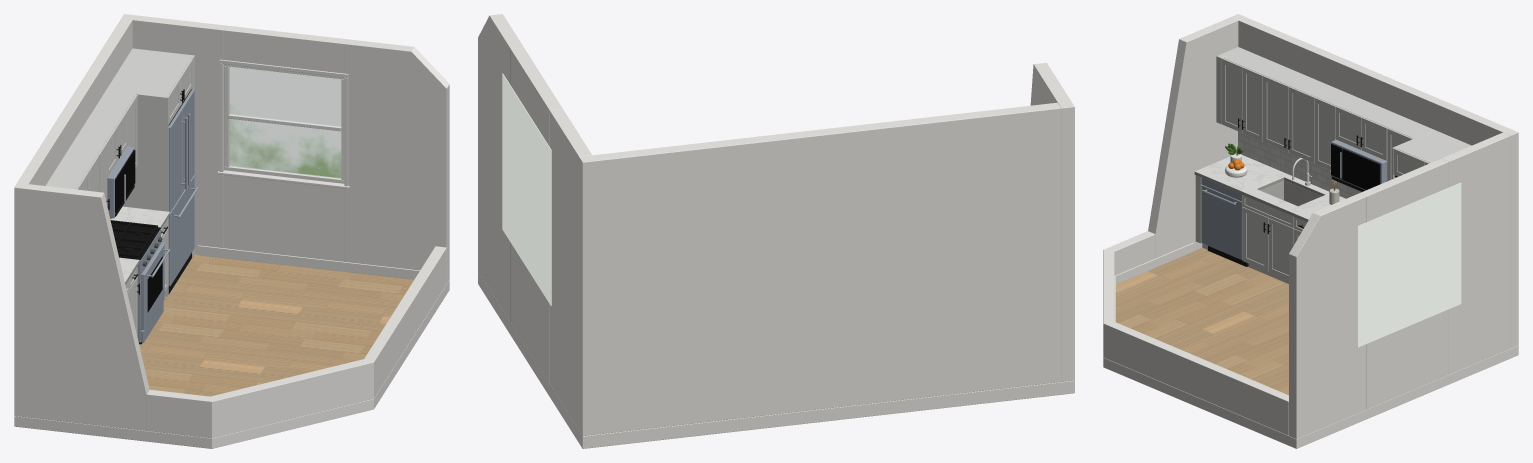
Rendered from kitchen.glb.
The picture shows the model from 3 angles, left to right: view 1: azimuth 30°, elevation 25°; view 2: azimuth 150°, elevation 25°; view 3: azimuth 270°, elevation 25°; orthographic projection. The views are drawn at different scales.
Parts seen in each view (by area): view 1: walls_floor_slab, floor_oak, windowb_exteriorbackdrop, windowb_glass, panel_cabinet_boxes, door_deco_A_REP84_R, fridge_leaves, windowb_frame, windowb_casing, baseboards, range_body, countertop_quartz (+8 smaller); view 2: walls_floor_slab, windowb_exteriorbackdrop; view 3: walls_floor_slab, floor_oak, windowb_exteriorbackdrop, panel_cabinet_boxes, countertop_quartz, dishwasher_face, backsplash_a, door_A08_W3030_L, door_A08_W3030_R, microwave_glass, door_A07_SB30_R, door_A09_W2430_R (+11 smaller).
Part boxes in pixels (x1=…): walls_floor_slab: x1=14, y1=14, x2=449, y2=448; floor_oak: x1=139, y1=254, x2=413, y2=396; windowb_exteriorbackdrop: x1=229, y1=66, x2=341, y2=177; windowb_glass: x1=229, y1=67, x2=340, y2=178; panel_cabinet_boxes: x1=45, y1=48, x2=194, y2=257; door_deco_A_REP84_R: x1=106, y1=90, x2=168, y2=296; fridge_leaves: x1=168, y1=89, x2=194, y2=286; windowb_frame: x1=224, y1=64, x2=344, y2=183; windowb_casing: x1=217, y1=59, x2=349, y2=189; baseboards: x1=198, y1=245, x2=419, y2=279; range_body: x1=121, y1=229, x2=164, y2=342; countertop_quartz: x1=110, y1=206, x2=169, y2=284; walls_floor_slab: x1=478, y1=14, x2=1074, y2=448; windowb_exteriorbackdrop: x1=502, y1=73, x2=551, y2=305; walls_floor_slab: x1=1103, y1=14, x2=1518, y2=448; floor_oak: x1=1115, y1=247, x2=1288, y2=395; windowb_exteriorbackdrop: x1=1357, y1=182, x2=1461, y2=347; panel_cabinet_boxes: x1=1195, y1=47, x2=1471, y2=283; countertop_quartz: x1=1194, y1=155, x2=1345, y2=221; dishwasher_face: x1=1201, y1=177, x2=1242, y2=259; backsplash_a: x1=1238, y1=131, x2=1361, y2=198; door_A08_W3030_L: x1=1289, y1=86, x2=1315, y2=163; door_A08_W3030_R: x1=1263, y1=75, x2=1289, y2=152; microwave_glass: x1=1331, y1=144, x2=1380, y2=189; door_A07_SB30_R: x1=1242, y1=207, x2=1268, y2=271; door_A09_W2430_R: x1=1221, y1=58, x2=1242, y2=132.
Size of the model in its own units: 5.24 by 2.57 by 4.33.
Materials: 27 (4 with a texture image).
